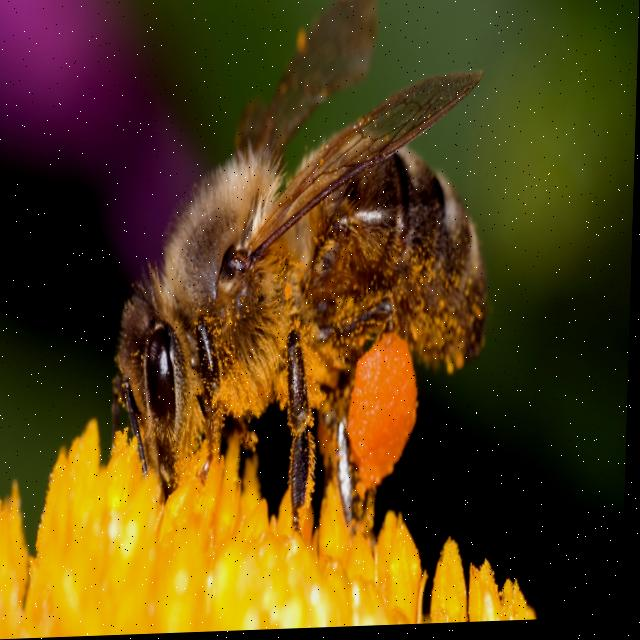Allodapula: (109, 0, 506, 546)
